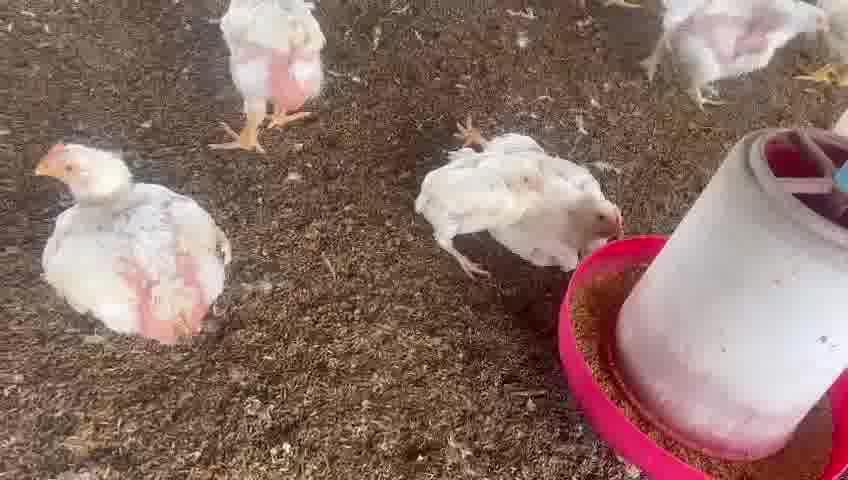AbNormal: (459, 111, 629, 271), (411, 145, 545, 276)
Normal: (33, 141, 242, 348), (201, 0, 346, 166), (659, 0, 836, 124)
